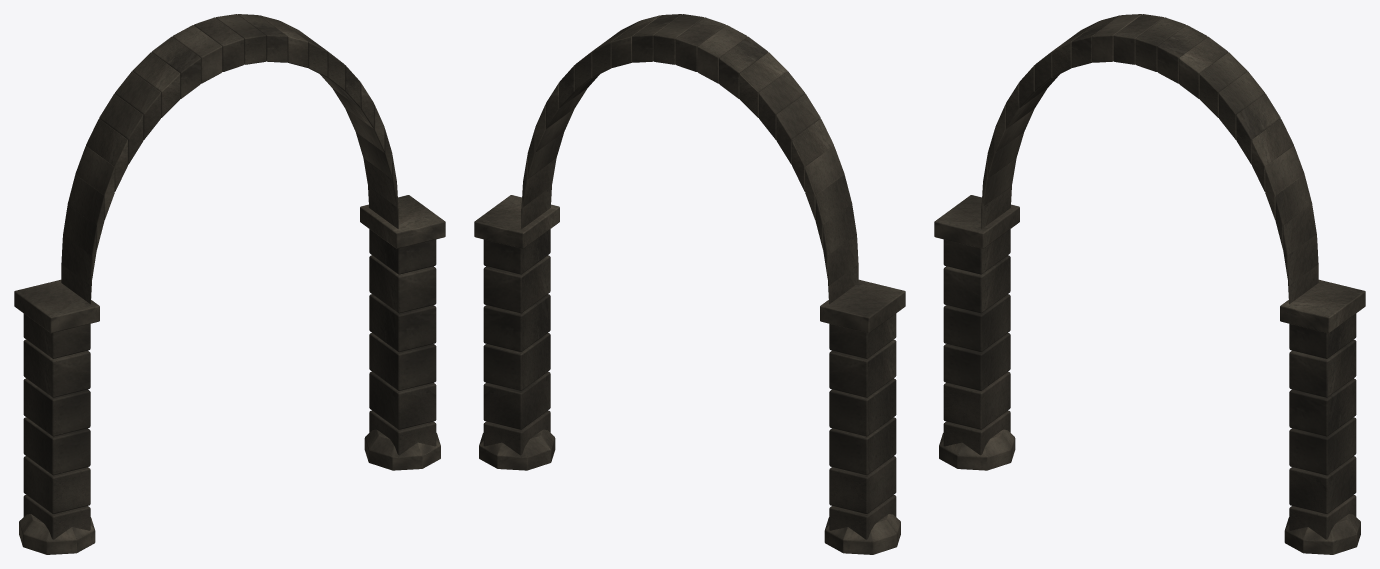
Rendered from C02_pointed_arch.gltf.
3 views of the same model, side by side, from view 1: azimuth 30°, elevation 25°; view 2: azimuth 150°, elevation 25°; view 3: azimuth 330°, elevation 25° (orthographic).
Parts seen in each view (by area): view 1: Impost, Arch pier block.002, Arch pier block.003, Arch pier block.004, Arch pier block.010, Arch pier block.001, Arch pier block.009, Arch pier block.007, Arch pier block.008, Impost.001, Pier plinth, Pier plinth.001 (+26 smaller); view 2: Impost, Arch pier block.002, Arch pier block.003, Arch pier block.004, Arch pier block.010, Arch pier block.001, Arch pier block.009, Arch pier block.007, Arch pier block.008, Impost.001, Pier plinth, Pier plinth.001 (+26 smaller); view 3: Impost.001, Arch pier block.008, Arch pier block.009, Arch pier block.004, Arch pier block.010, Arch pier block.003, Arch pier block.007, Arch pier block.001, Arch pier block.002, Impost, Pier plinth, Pier plinth.001 (+26 smaller).
Boxes of the visible parts, box(x1,y1,x2,y2) form: Impost: box(14, 279, 99, 333); Arch pier block.002: box(23, 417, 90, 475); Arch pier block.003: box(23, 378, 90, 436); Arch pier block.004: box(23, 339, 90, 397); Arch pier block.010: box(369, 255, 436, 313); Arch pier block.001: box(23, 456, 90, 513); Arch pier block.009: box(369, 294, 436, 351); Arch pier block.007: box(369, 371, 436, 429); Arch pier block.008: box(369, 333, 436, 390); Impost.001: box(360, 195, 445, 248); Pier plinth: box(19, 514, 95, 554); Pier plinth.001: box(364, 429, 440, 470); Impost: box(820, 279, 905, 333); Arch pier block.002: box(829, 417, 896, 475); Arch pier block.003: box(829, 378, 896, 436); Arch pier block.004: box(829, 339, 896, 397); Arch pier block.010: box(483, 255, 550, 313); Arch pier block.001: box(829, 456, 896, 513); Arch pier block.009: box(483, 294, 550, 351); Arch pier block.007: box(483, 371, 550, 429); Arch pier block.008: box(483, 333, 550, 390); Impost.001: box(474, 195, 559, 248); Pier plinth: box(824, 514, 900, 554); Pier plinth.001: box(479, 429, 555, 470); Impost.001: box(1280, 279, 1365, 333); Arch pier block.008: box(1289, 417, 1356, 475); Arch pier block.009: box(1289, 378, 1356, 436); Arch pier block.004: box(943, 255, 1010, 313); Arch pier block.010: box(1289, 339, 1356, 397); Arch pier block.003: box(943, 294, 1010, 351); Arch pier block.007: box(1289, 456, 1356, 513); Arch pier block.001: box(943, 371, 1010, 429); Arch pier block.002: box(943, 333, 1010, 390); Impost: box(934, 195, 1019, 248); Pier plinth: box(939, 429, 1015, 470); Pier plinth.001: box(1284, 514, 1360, 554).
Size of the model in its own units: 4.84 by 5.24 by 0.796.
4 materials, 4 textured.
